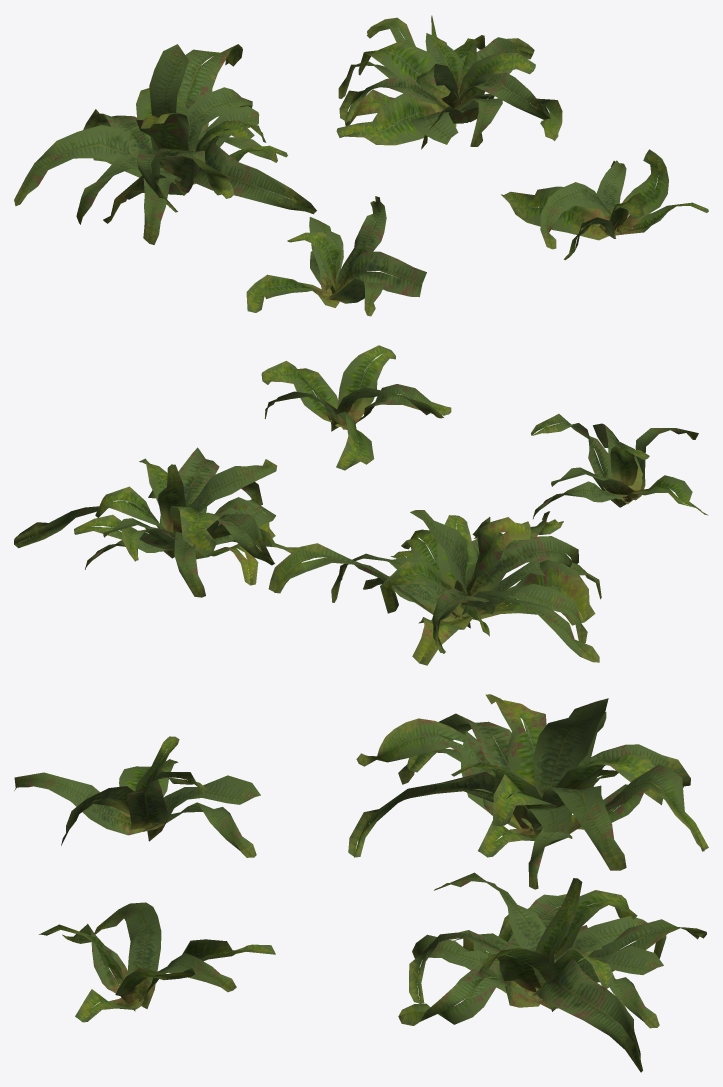
The model's file is ph_fern_02.glb.
3 renders of one model, top to bottom at view 1: azimuth 30°, elevation 25°; view 2: azimuth 150°, elevation 25°; view 3: azimuth 270°, elevation 25°, orthographic. The views are drawn at different scales.
Visible parts, largest first — view 1: fern_02_b; view 2: fern_02_b; view 3: fern_02_b.
Boxes of the visible parts, left/top/right/bottom form: fern_02_b: left=14, top=15, right=708, bottom=316; fern_02_b: left=14, top=345, right=708, bottom=665; fern_02_b: left=14, top=694, right=708, bottom=1072.
Bounding box in the file's own units: 1.97 × 0.4261 × 1.72.
1 material, 1 textured.
